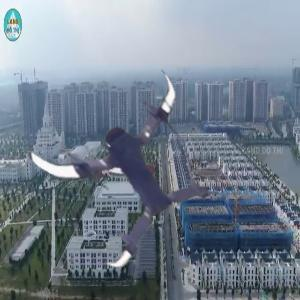drone: (35, 67, 220, 252)
